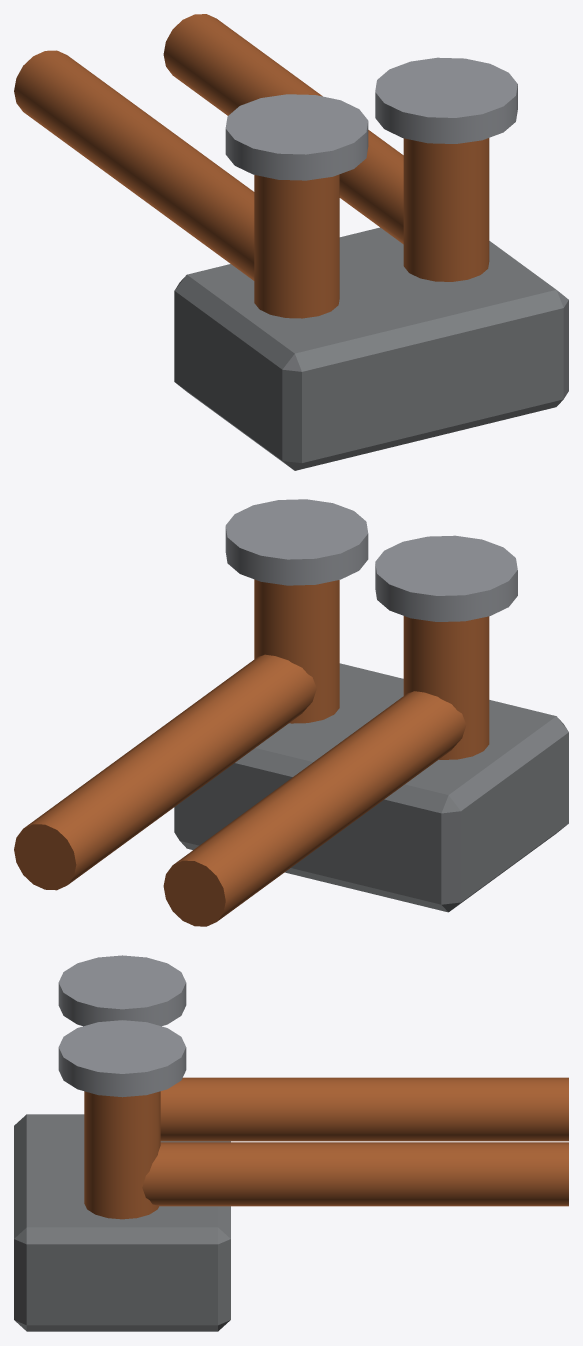
File: er1_emergency_coolant.obj
3 views of the same model, one above another, from view 1: azimuth 30°, elevation 25°; view 2: azimuth 150°, elevation 25°; view 3: azimuth 270°, elevation 25° (orthographic). The views are drawn at different scales.
Parts seen in each view (by area): view 1: er1_emergency_coolant; view 2: er1_emergency_coolant; view 3: er1_emergency_coolant.
Boxes of the visible parts, <box> form: er1_emergency_coolant: <box>14,14,568,470</box>; er1_emergency_coolant: <box>14,499,568,926</box>; er1_emergency_coolant: <box>14,955,568,1331</box>.
Bounding box in the file's own units: 0.2153 × 0.2106 × 0.4072.
